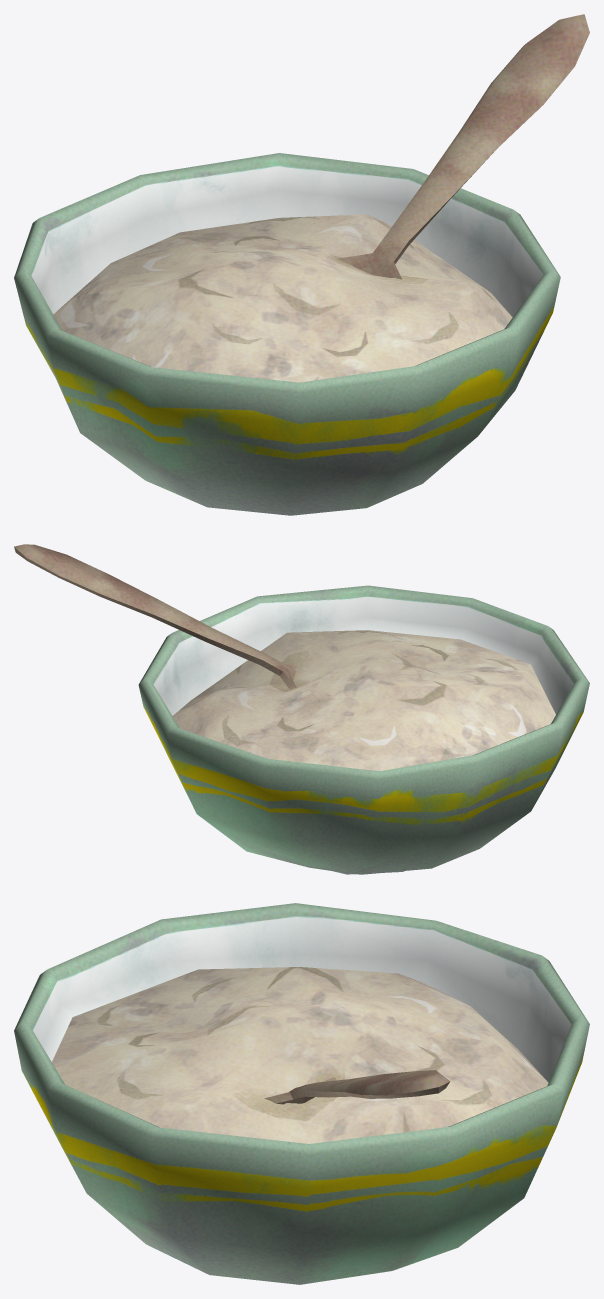
The model's file is Bowl.fbx.
3 renders of one model, top to bottom at view 1: azimuth 30°, elevation 25°; view 2: azimuth 150°, elevation 25°; view 3: azimuth 270°, elevation 25°, orthographic. The views are drawn at different scales.
Parts seen in each view (by area): view 1: oatsBowl; view 2: oatsBowl; view 3: oatsBowl.
Part boxes in pixels (x1,y1,x2,y2): oatsBowl: [14, 14, 589, 515]; oatsBowl: [14, 544, 589, 874]; oatsBowl: [14, 903, 589, 1284].
Bounding box in the file's own units: 22.29 × 17.35 × 11.16.
1 material, 1 textured.
